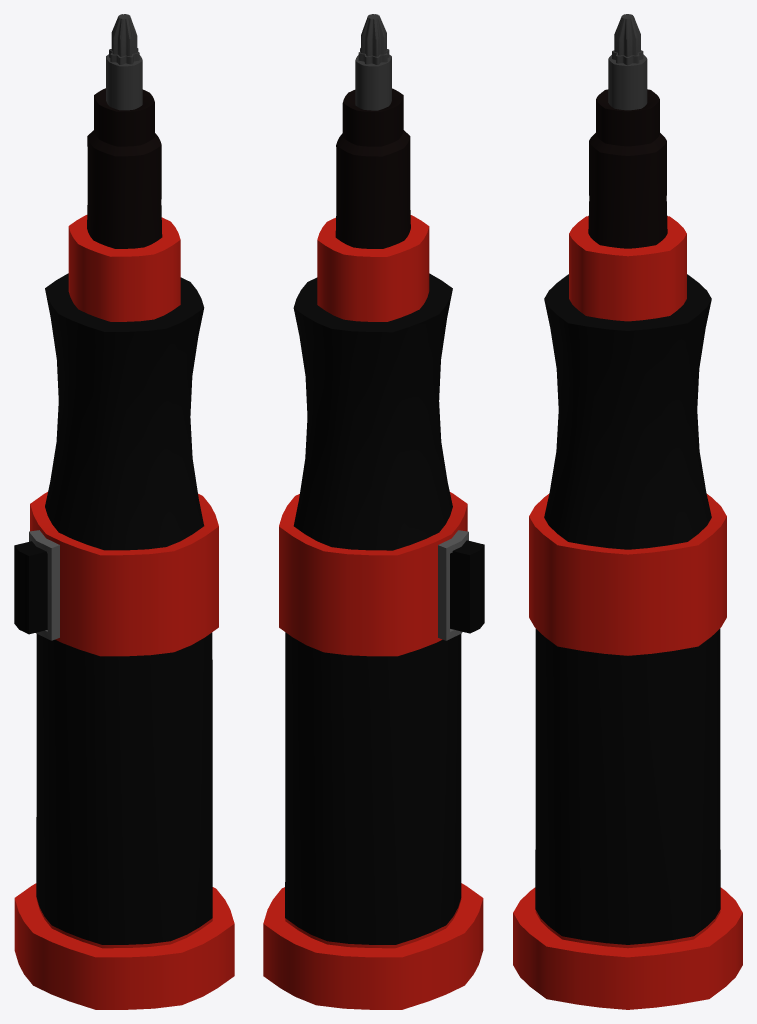
The model's file is Desarmador estrella.fbx.
The picture shows the model from 3 angles, left to right: view 1: azimuth 30°, elevation 25°; view 2: azimuth 150°, elevation 25°; view 3: azimuth 270°, elevation 25°; orthographic projection.
Parts seen in each view (by area): view 1: Desarmador; view 2: Desarmador; view 3: Desarmador.
Boxes of the visible parts, x1,y1,x2,y2 form: Desarmador: (14, 14, 234, 1009); Desarmador: (263, 14, 484, 1009); Desarmador: (513, 14, 742, 1009).
Size of the model in its own units: 15.36 by 70.38 by 15.45.
